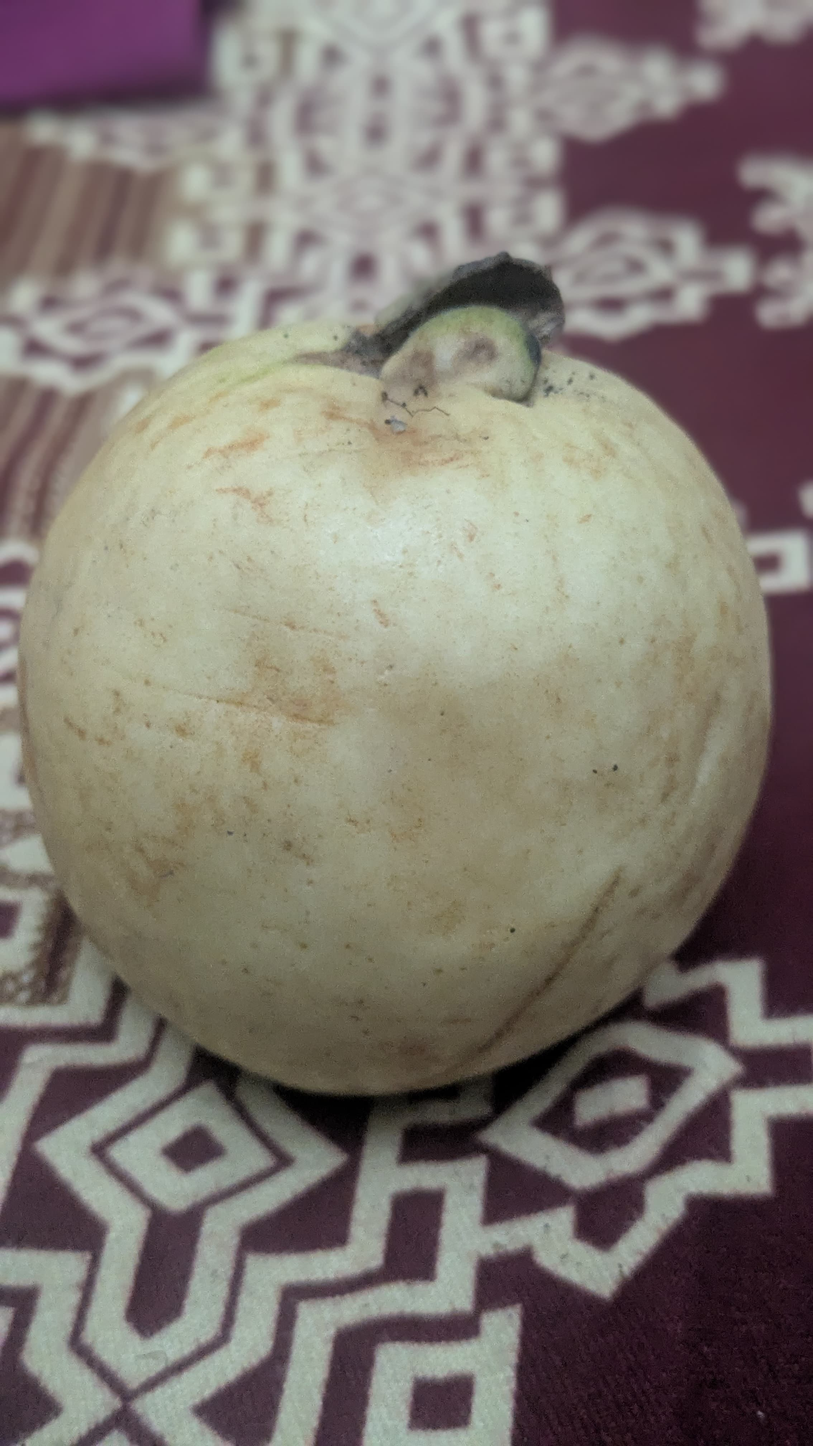guava: (215, 143, 742, 1184)
